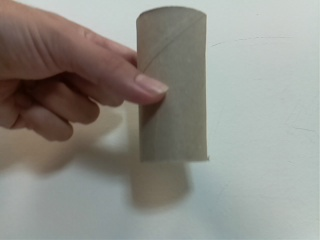rollo papel: (132, 5, 213, 169)
